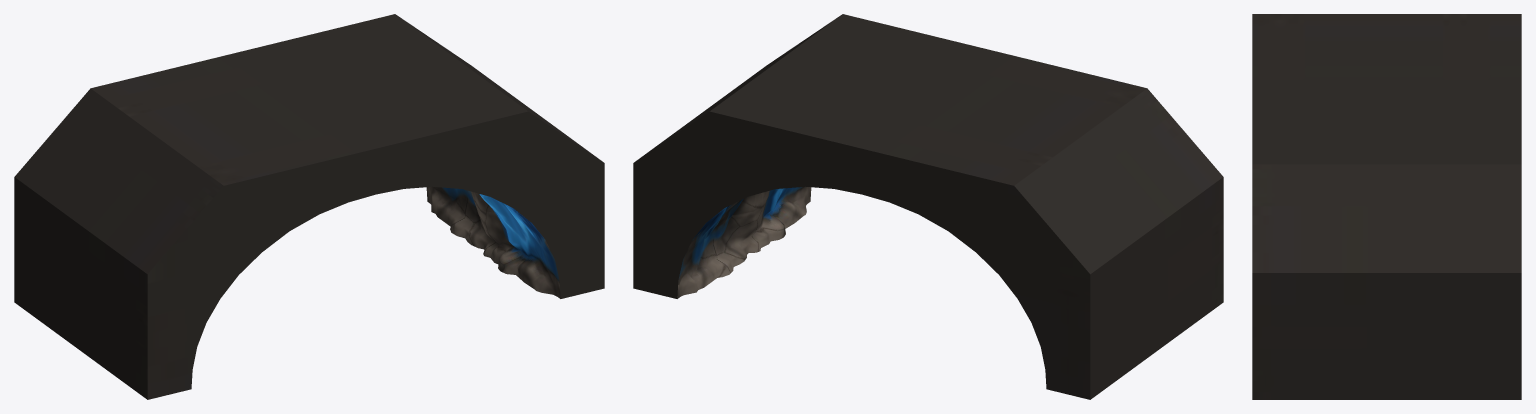
File: SM_IceCave_Segment_A.glb
3 renders of one model, left to right at view 1: azimuth 30°, elevation 25°; view 2: azimuth 150°, elevation 25°; view 3: azimuth 270°, elevation 25°, orthographic.
Visible parts, largest first — view 1: SM_IceCave_Segment_A; view 2: SM_IceCave_Segment_A; view 3: SM_IceCave_Segment_A.
Part boxes in pixels (box(x1,y1,x2,y2)): SM_IceCave_Segment_A: box(14, 14, 604, 399); SM_IceCave_Segment_A: box(633, 14, 1223, 399); SM_IceCave_Segment_A: box(1252, 14, 1521, 399).
Bounding box in the file's own units: 19.8 × 8.1 × 10.
Materials: 1 (1 with a texture image).
